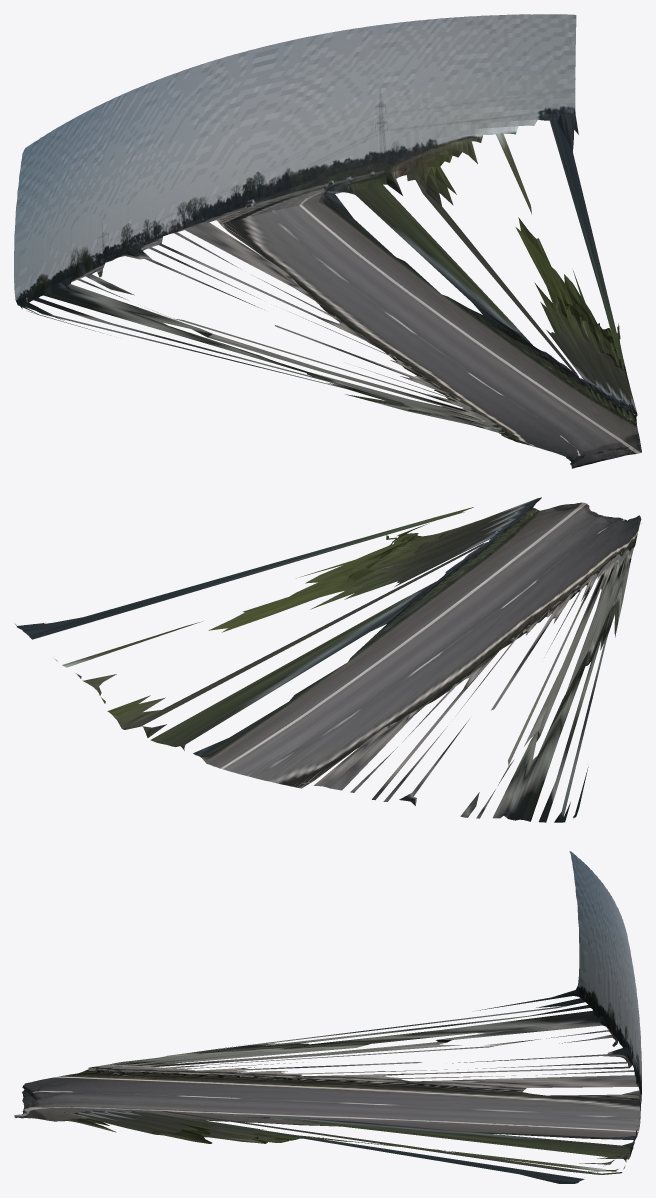
3 views of the same model, one above another, from view 1: azimuth 30°, elevation 25°; view 2: azimuth 150°, elevation 25°; view 3: azimuth 270°, elevation 25° (orthographic). The views are drawn at different scales.
Visible parts, largest first — view 1: defaultobject; view 2: defaultobject; view 3: defaultobject.
Boxes of the visible parts, box(x1,y1,x2,y2) form: defaultobject: box(14, 14, 641, 468); defaultobject: box(15, 497, 641, 822); defaultobject: box(14, 851, 641, 1183).
Size of the model in its own units: 41.12 by 12.72 by 44.77.
Materials: 1 (1 with a texture image).
